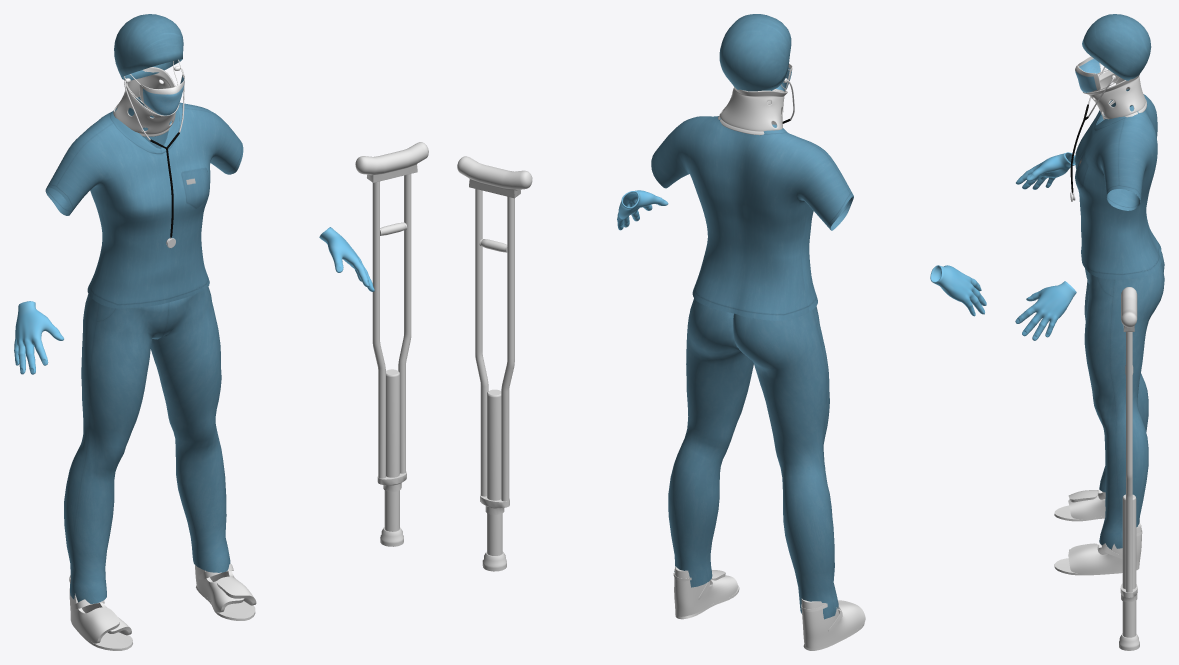
The model's file is MedicalOutfitKit.fbx.
3 views of the same model, side by side, from view 1: azimuth 30°, elevation 25°; view 2: azimuth 150°, elevation 25°; view 3: azimuth 270°, elevation 25° (orthographic). The views are drawn at different scales.
Parts seen in each view (by area): view 1: Scrub_Pants, Scrub_Shirt, Crutch, FootBrace, SurgicalCap, Scrub_Gloves, Neck Brace, SurgicalMask, stethoscope; view 2: Scrub_Pants, Scrub_Shirt, Crutch, SurgicalCap, FootBrace, Scrub_Gloves, Neck Brace; view 3: Scrub_Shirt, Scrub_Pants, Crutch, FootBrace, SurgicalCap, Scrub_Gloves, Neck Brace, SurgicalMask, stethoscope.
Part boxes in pixels (box(x1,y1,x2,y2)): Scrub_Pants: box(64, 286, 230, 603); Scrub_Shirt: box(45, 97, 243, 308); Crutch: box(355, 142, 428, 546); FootBrace: box(69, 563, 256, 650); SurgicalCap: box(114, 14, 183, 80); Scrub_Gloves: box(14, 227, 374, 374); Neck Brace: box(113, 67, 179, 136); SurgicalMask: box(124, 59, 184, 116); stethoscope: box(124, 66, 184, 248); Scrub_Pants: box(668, 298, 838, 619); Scrub_Shirt: box(651, 116, 853, 320); Crutch: box(457, 156, 532, 571); SurgicalCap: box(719, 14, 791, 91); FootBrace: box(673, 566, 865, 650); Scrub_Gloves: box(617, 190, 986, 316); Neck Brace: box(718, 86, 787, 135); Scrub_Shirt: box(1075, 89, 1161, 279); Scrub_Pants: box(1084, 251, 1164, 548); Crutch: box(1119, 287, 1139, 650); FootBrace: box(1054, 490, 1142, 575); SurgicalCap: box(1082, 14, 1151, 80); Scrub_Gloves: box(1015, 152, 1076, 340); Neck Brace: box(1083, 70, 1147, 119); SurgicalMask: box(1075, 56, 1119, 95); stethoscope: box(1070, 66, 1115, 201).
Size of the model in its own units: 137 by 169 by 43.67.
